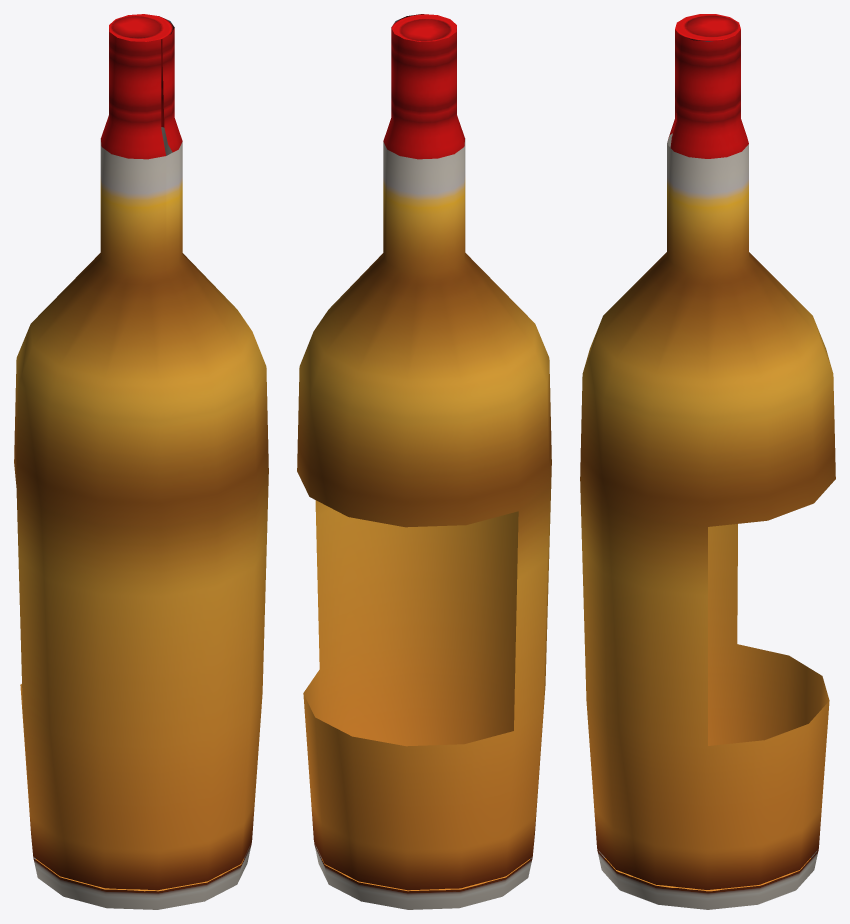
Rendered from Bottle_Whisky.fbx.
3 views of the same model, side by side, from view 1: azimuth 30°, elevation 25°; view 2: azimuth 150°, elevation 25°; view 3: azimuth 270°, elevation 25° (orthographic).
Visible parts, largest first — view 1: Bottle_Whisky; view 2: Bottle_Whisky; view 3: Bottle_Whisky.
Part boxes in pixels (<box>): Bottle_Whisky: <box>14,14,268,909</box>; Bottle_Whisky: <box>297,14,551,909</box>; Bottle_Whisky: <box>580,14,835,909</box>.
Bounding box in the file's own units: 8.81 × 32.06 × 8.87.
